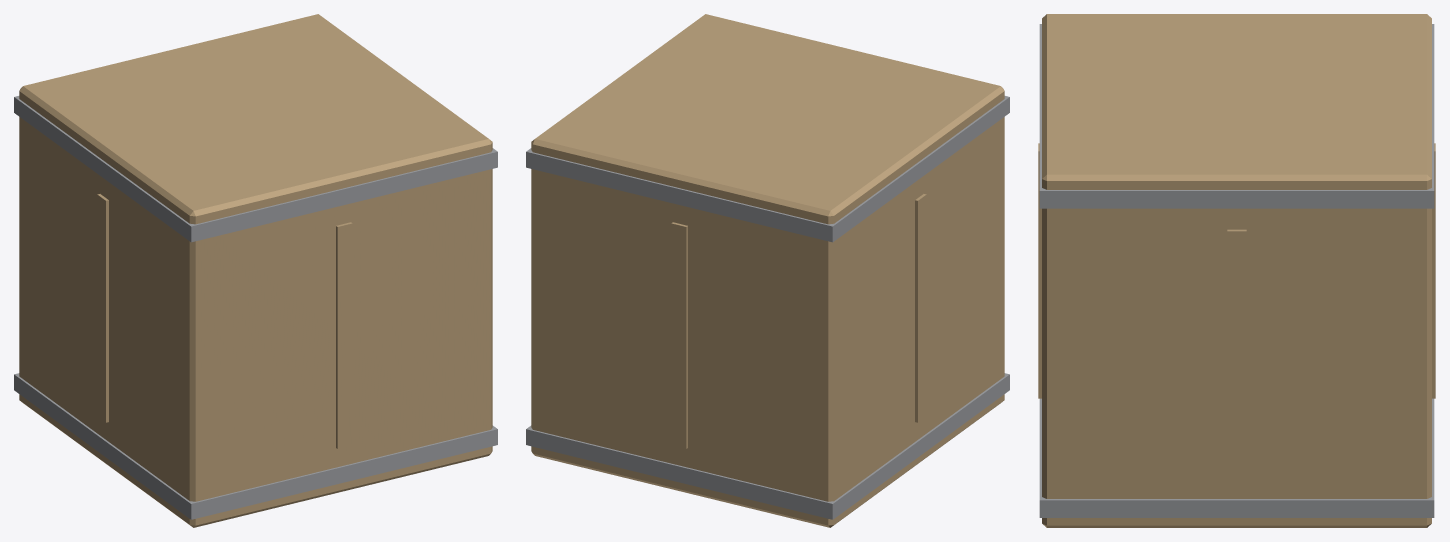
Rendered from crate.glb.
3 views of the same model, side by side, from view 1: azimuth 30°, elevation 25°; view 2: azimuth 150°, elevation 25°; view 3: azimuth 270°, elevation 25° (orthographic). The views are drawn at different scales.
Visible parts, largest first — view 1: crate; view 2: crate; view 3: crate.
Part boxes in pixels (x1,y1,x2,y2): crate: [14, 14, 497, 527]; crate: [526, 14, 1009, 527]; crate: [1038, 14, 1435, 527].
Size of what is drawn, in the model's own units: 1.63 by 1.6 by 1.63.
